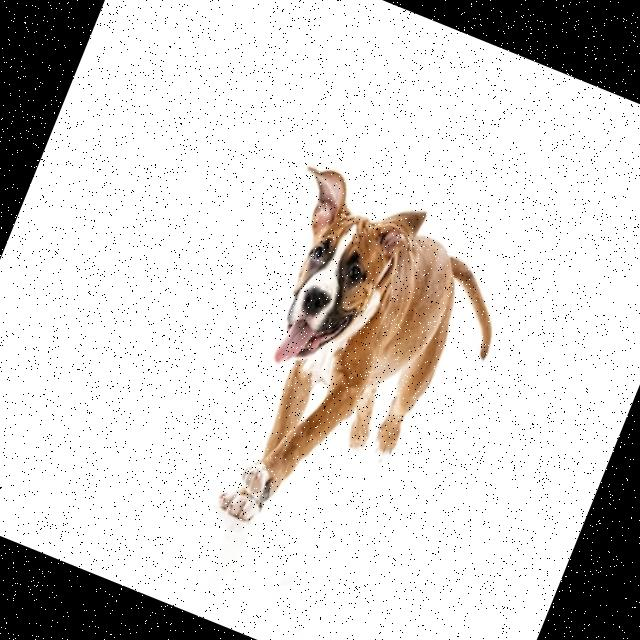Dog: (175, 160, 529, 580)
